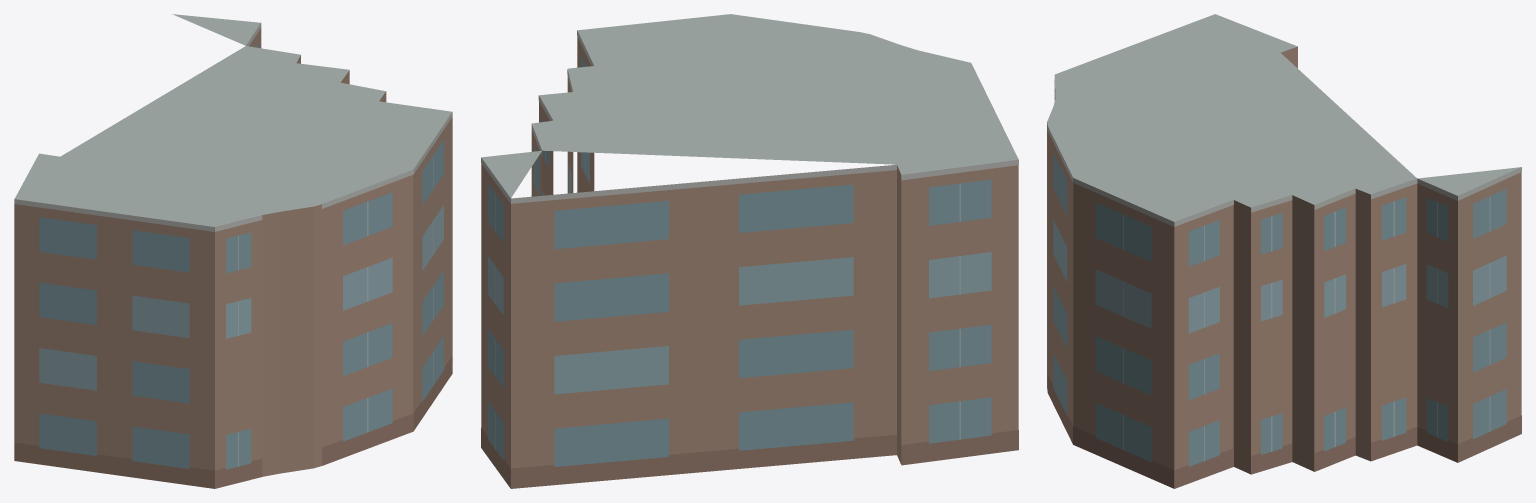
File: survey-upis-32615021.glb
3 views of the same model, side by side, from view 1: azimuth 30°, elevation 25°; view 2: azimuth 150°, elevation 25°; view 3: azimuth 270°, elevation 25° (orthographic). The views are drawn at different scales.
Parts seen in each view (by area): view 1: survey-upis-32615021.tmp; view 2: survey-upis-32615021.tmp; view 3: survey-upis-32615021.tmp.
Part boxes in pixels (bbox=[...]): survey-upis-32615021.tmp: bbox=[14, 14, 452, 488]; survey-upis-32615021.tmp: bbox=[481, 14, 1018, 488]; survey-upis-32615021.tmp: bbox=[1047, 14, 1521, 488].
Size of the model in its own units: 21.9 by 13.1 by 21.11.
